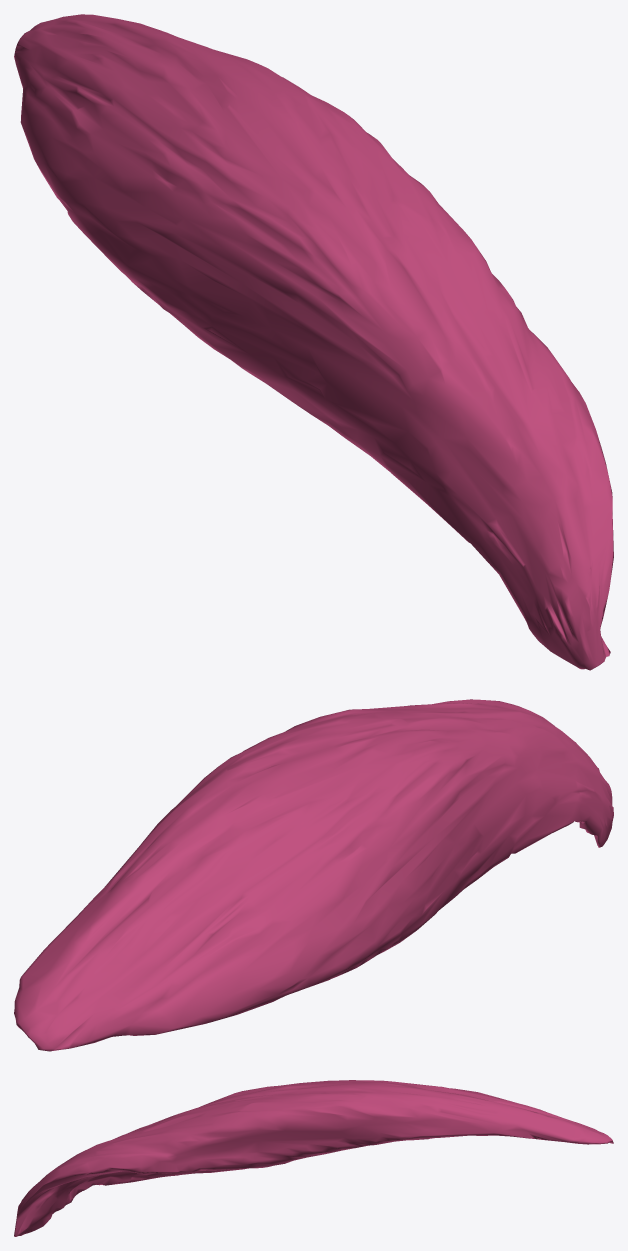
3 renders of one model, top to bottom at view 1: azimuth 30°, elevation 25°; view 2: azimuth 150°, elevation 25°; view 3: azimuth 270°, elevation 25°, orthographic. The views are drawn at different scales.
Visible parts, largest first — view 1: 右侧腓肠肌外侧头; view 2: 右侧腓肠肌外侧头; view 3: 右侧腓肠肌外侧头.
Boxes of the visible parts, x1,y1,x2,y2 form: 右侧腓肠肌外侧头: [14, 14, 613, 670]; 右侧腓肠肌外侧头: [14, 699, 613, 1051]; 右侧腓肠肌外侧头: [14, 1080, 613, 1236].
Size of the model in its own units: 0.0797 by 0.1148 by 0.3968.
